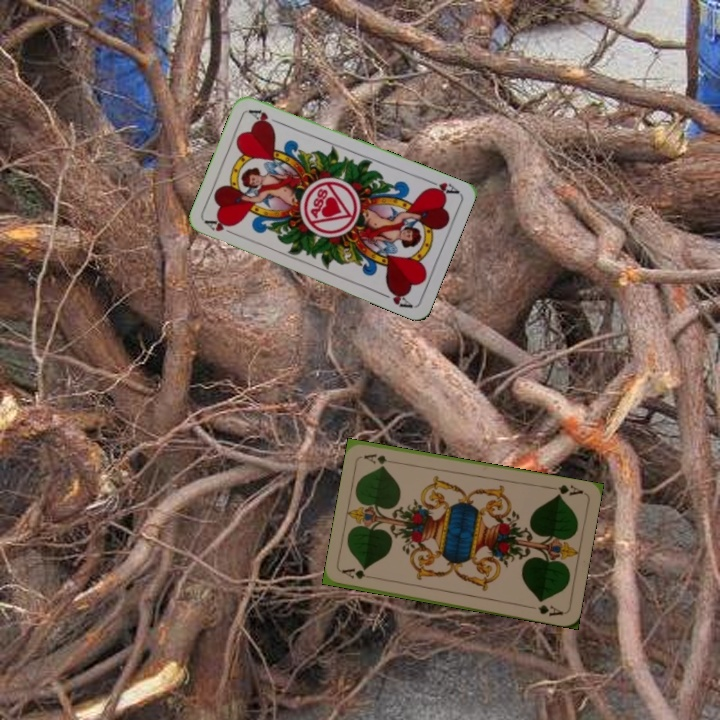GA: (545, 481, 586, 499), (339, 564, 379, 582)
HA: (422, 175, 461, 198), (201, 216, 240, 239)
